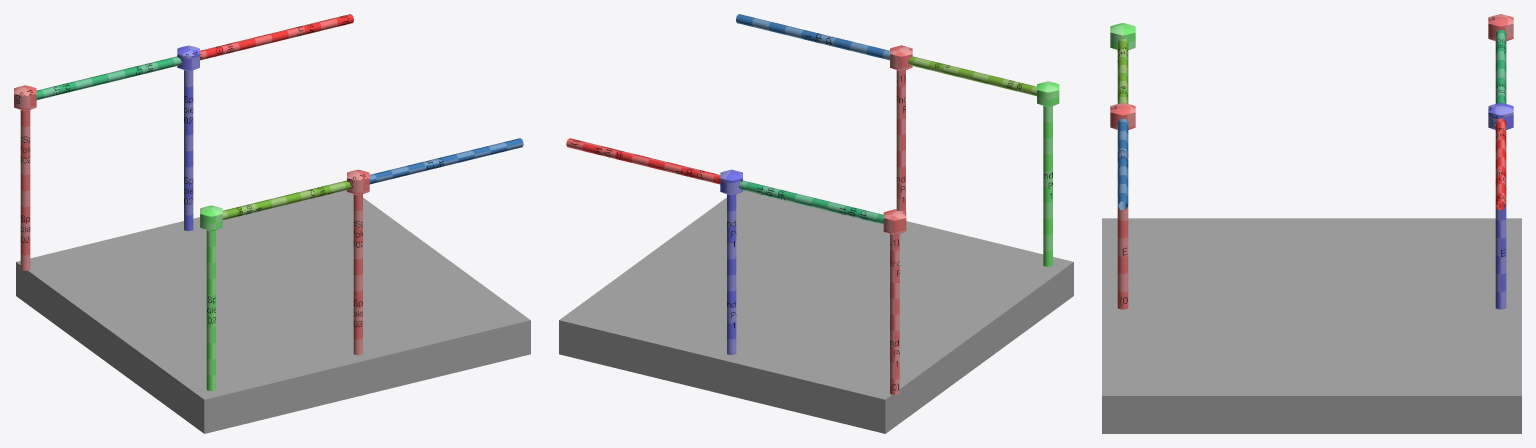
Rendered from bridge_intersection_T_right.fbx.
The picture shows the model from 3 angles, left to right: view 1: azimuth 30°, elevation 25°; view 2: azimuth 150°, elevation 25°; view 3: azimuth 270°, elevation 25°; orthographic projection. The views are drawn at different scales.
Visible parts, largest first — view 1: bridge_intersection_T_right_floor, bridge_intersection_T_right; view 2: bridge_intersection_T_right_floor, bridge_intersection_T_right; view 3: bridge_intersection_T_right_floor, bridge_intersection_T_right.
Part boxes in pixels (x1,y1,x2,y2): bridge_intersection_T_right_floor: (16,190,530,433); bridge_intersection_T_right: (14,14,523,391); bridge_intersection_T_right_floor: (559,190,1073,433); bridge_intersection_T_right: (566,14,1059,394); bridge_intersection_T_right_floor: (1102,218,1521,433); bridge_intersection_T_right: (1110,14,1513,309).
Size of the model in its own units: 207 by 126 by 200.
